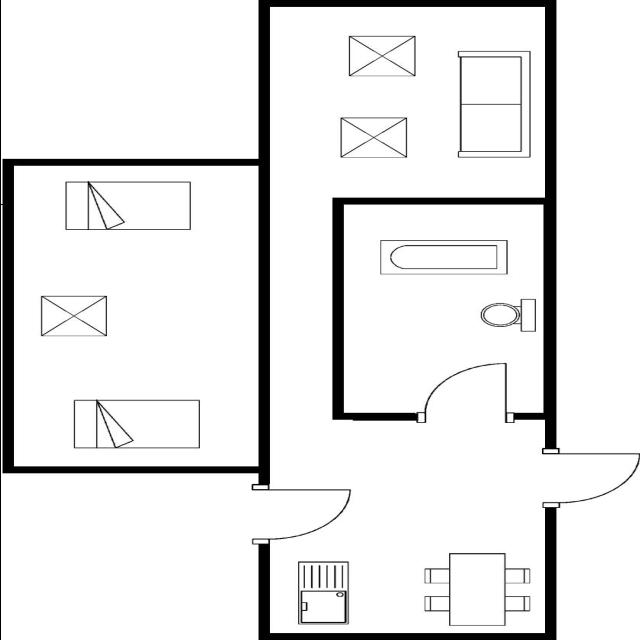bed: (70, 396, 206, 450), (61, 180, 193, 232)
coffee_table: (336, 114, 411, 160), (344, 33, 418, 79), (38, 294, 110, 338)
dining_table: (417, 550, 535, 628), (454, 46, 534, 160)
large_sink: (476, 296, 540, 334)
sink: (292, 558, 354, 626)
tub: (373, 237, 513, 276)
